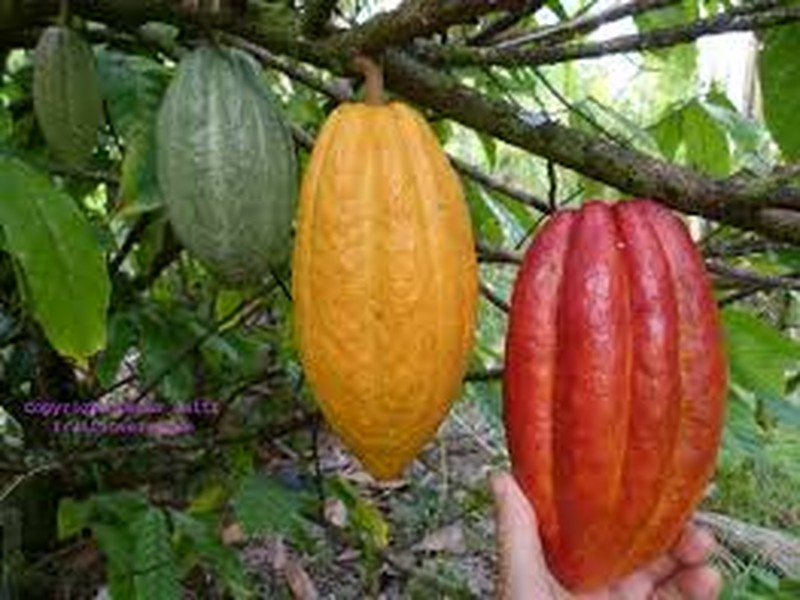Cacaopod: (506, 198, 729, 590), (292, 94, 481, 477)
